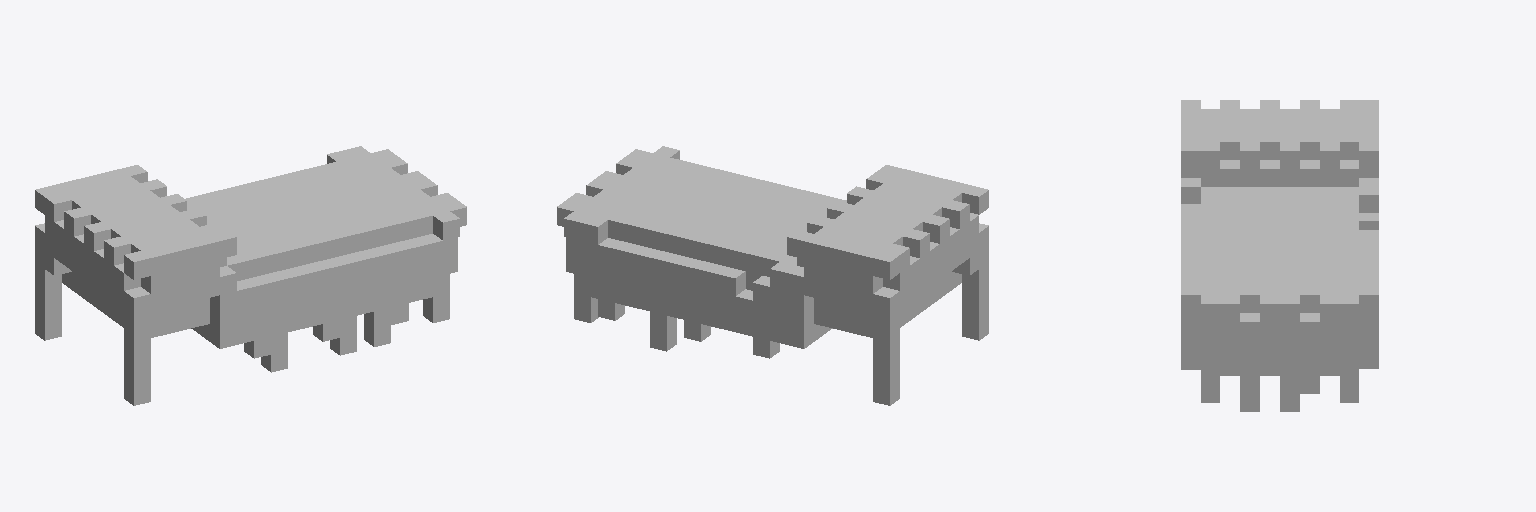
The model's file is bed.obj.
3 renders of one model, left to right at view 1: azimuth 30°, elevation 25°; view 2: azimuth 150°, elevation 25°; view 3: azimuth 270°, elevation 25°, orthographic.
Parts seen in each view (by area): view 1: object 1; view 2: object 1; view 3: object 1.
Boxes of the visible parts, box(x1,y1,x2,y2) form: object 1: box(35, 146, 466, 405); object 1: box(557, 146, 988, 405); object 1: box(1181, 100, 1378, 411).
Bounding box in the file's own units: 2 × 0.8 × 1.